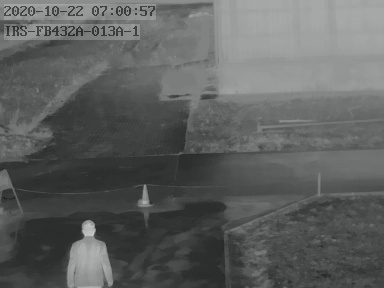person: (65, 221, 116, 286)
